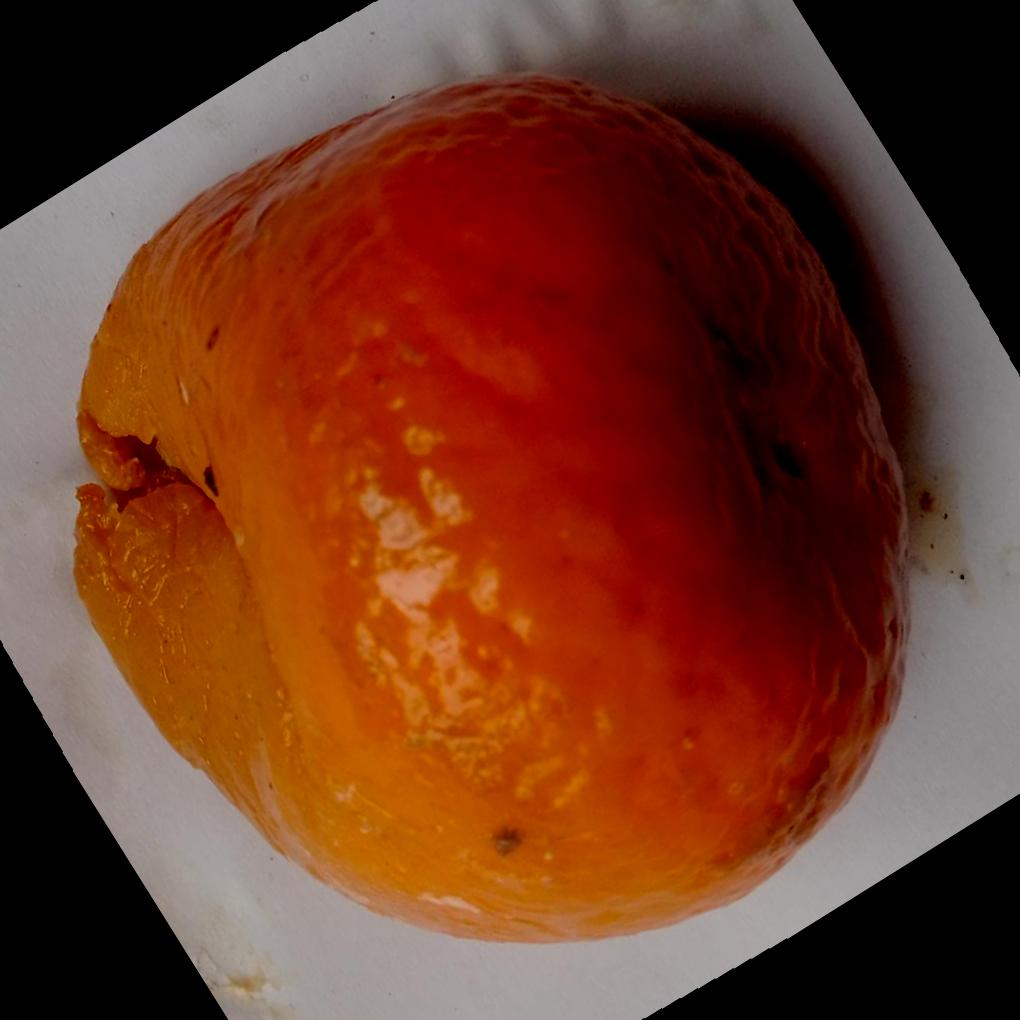FreshOrange: (66, 67, 911, 944)
